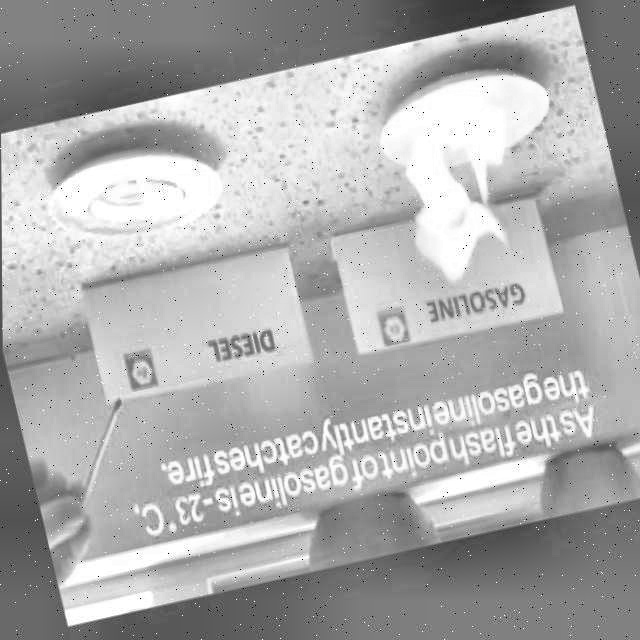Fire: (373, 85, 535, 289)
